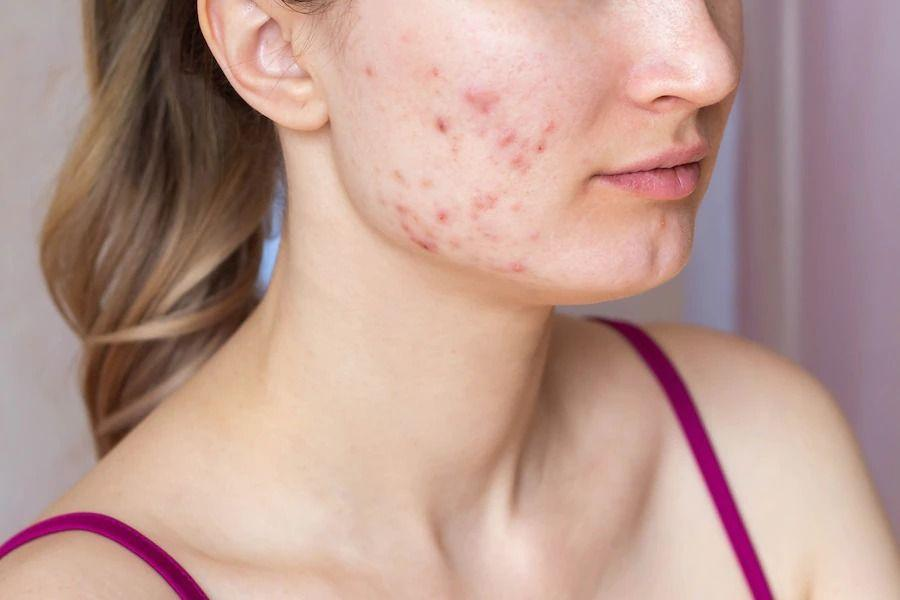Acne: (336, 34, 573, 295)
